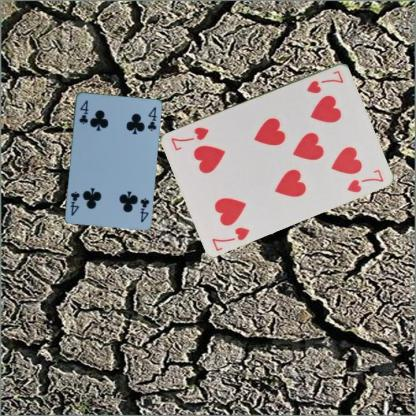4c: (138, 195, 150, 223), (77, 98, 89, 125)
7h: (209, 224, 251, 252), (304, 67, 345, 95)
